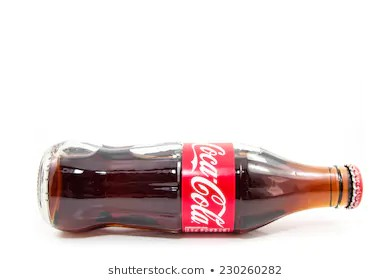coke-glass-bottle: (42, 143, 367, 235)
